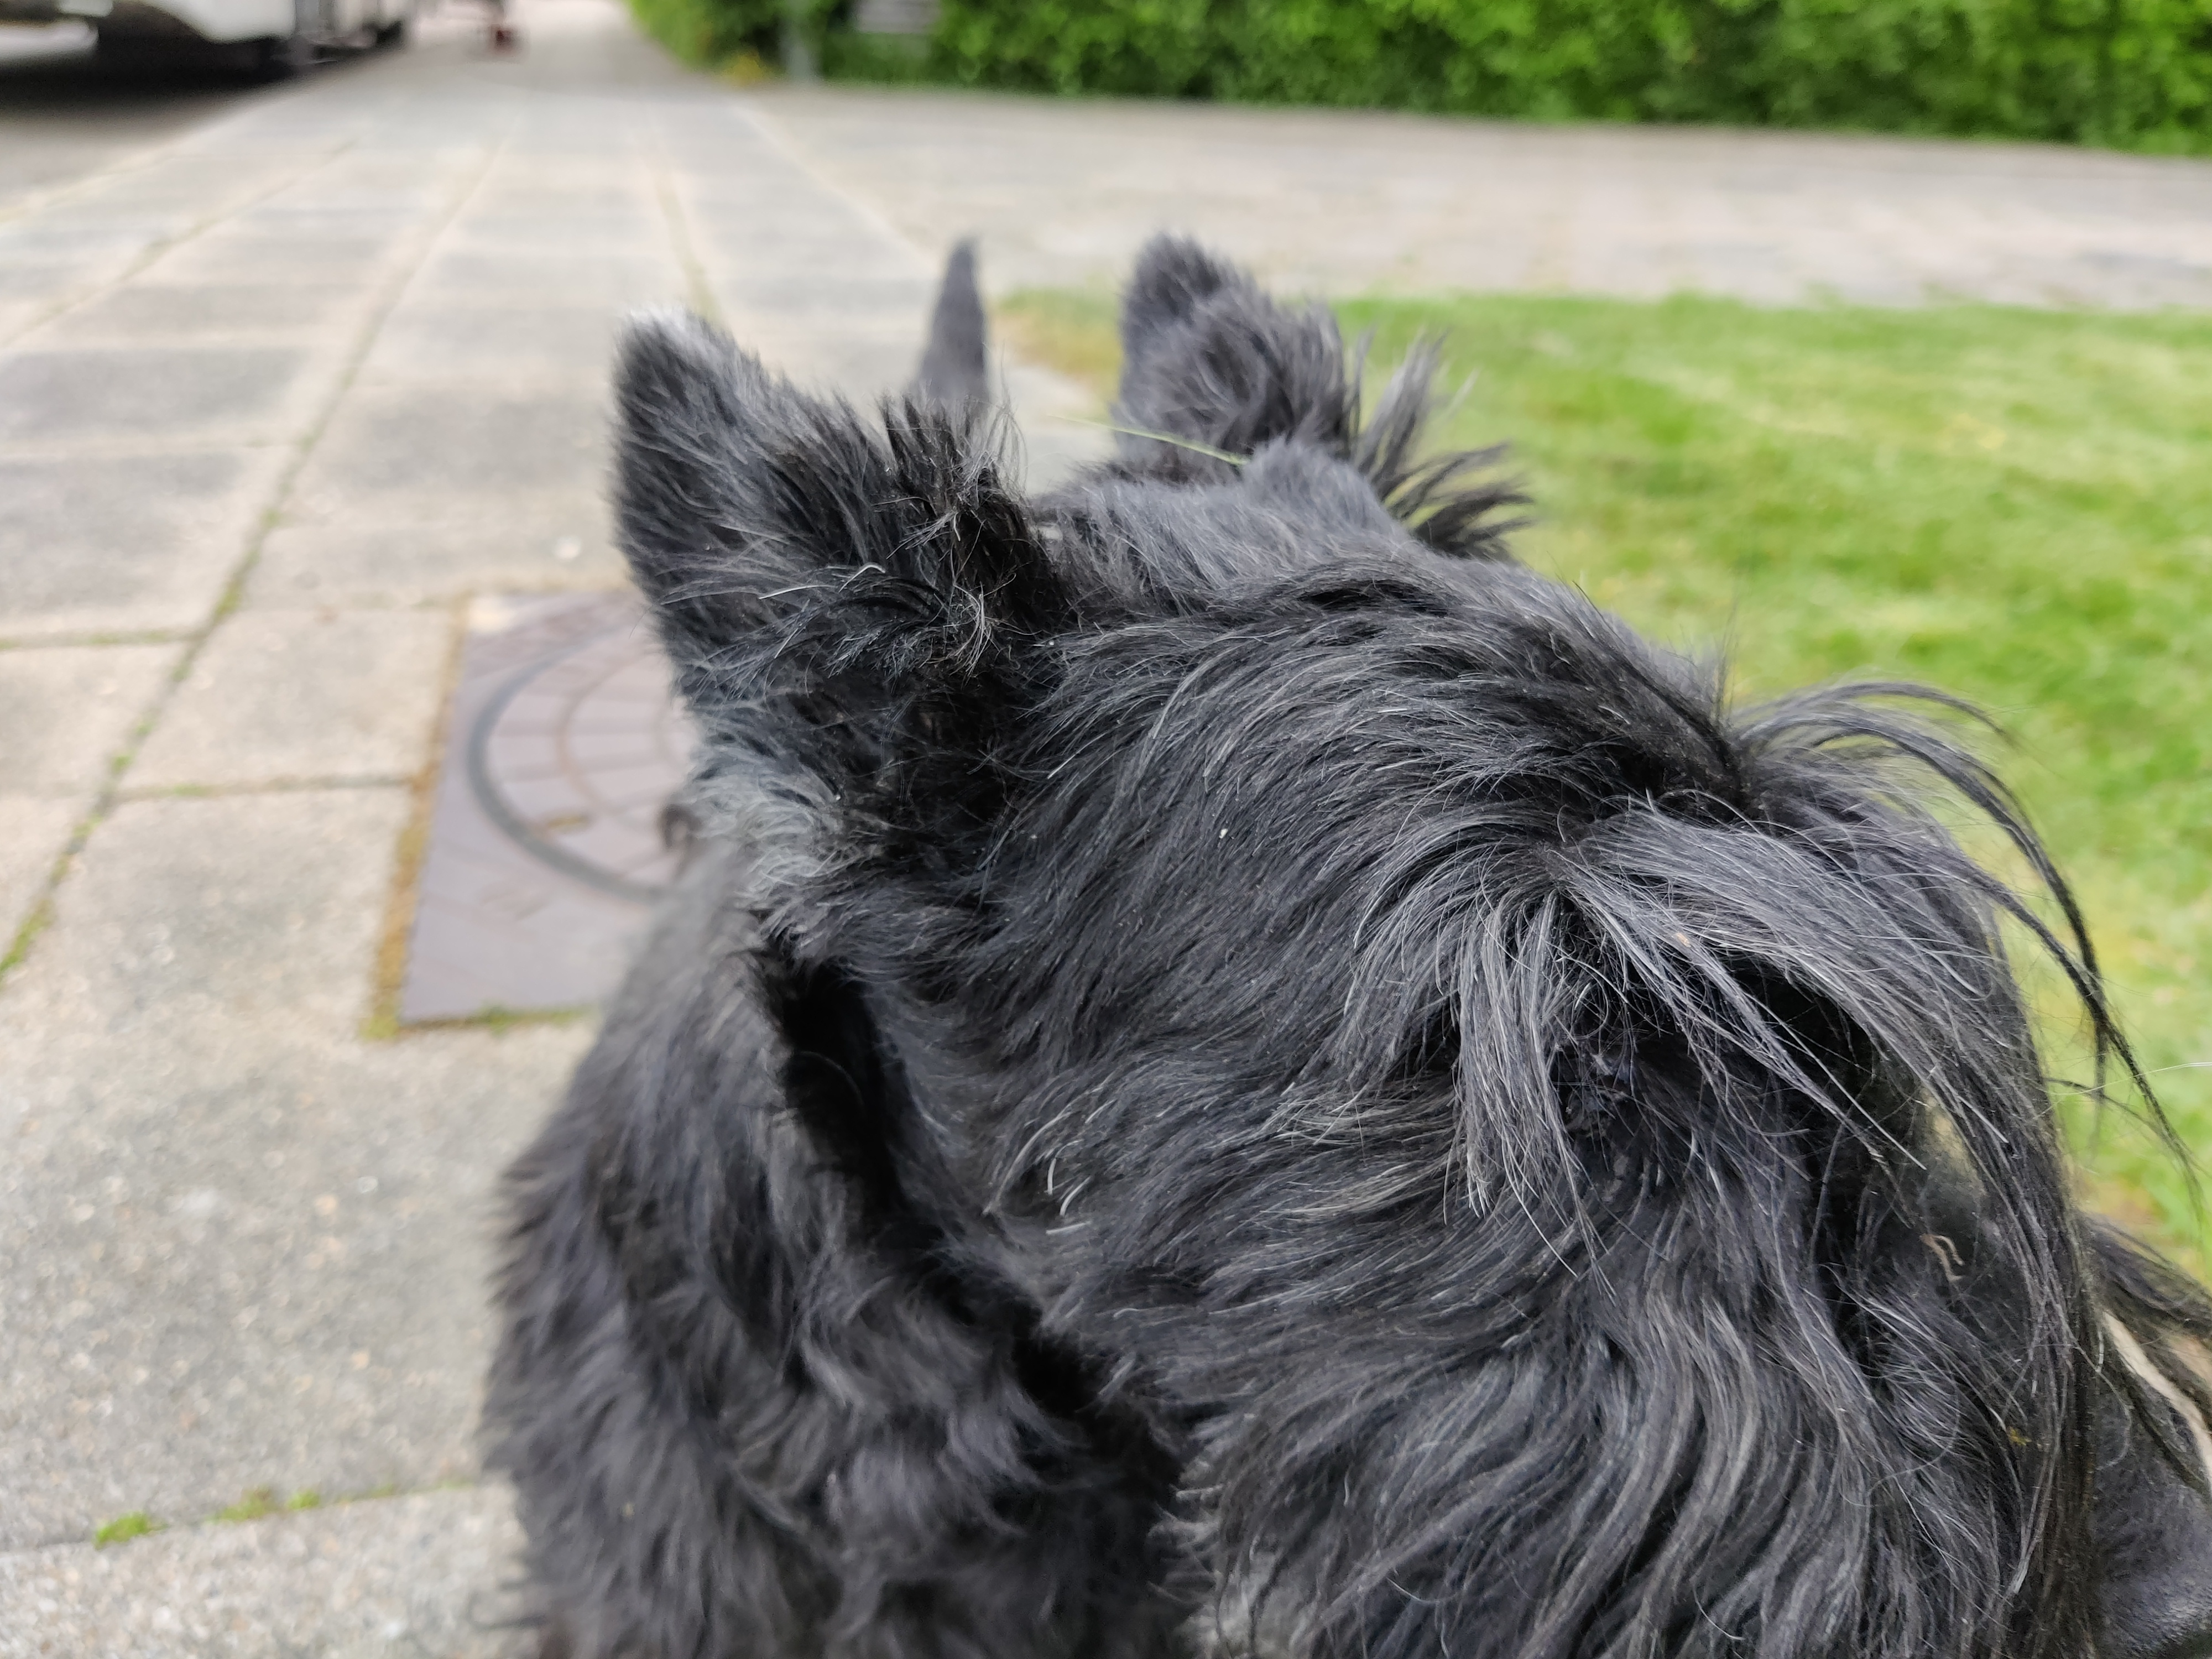Dog: (458, 214, 2212, 1659)
